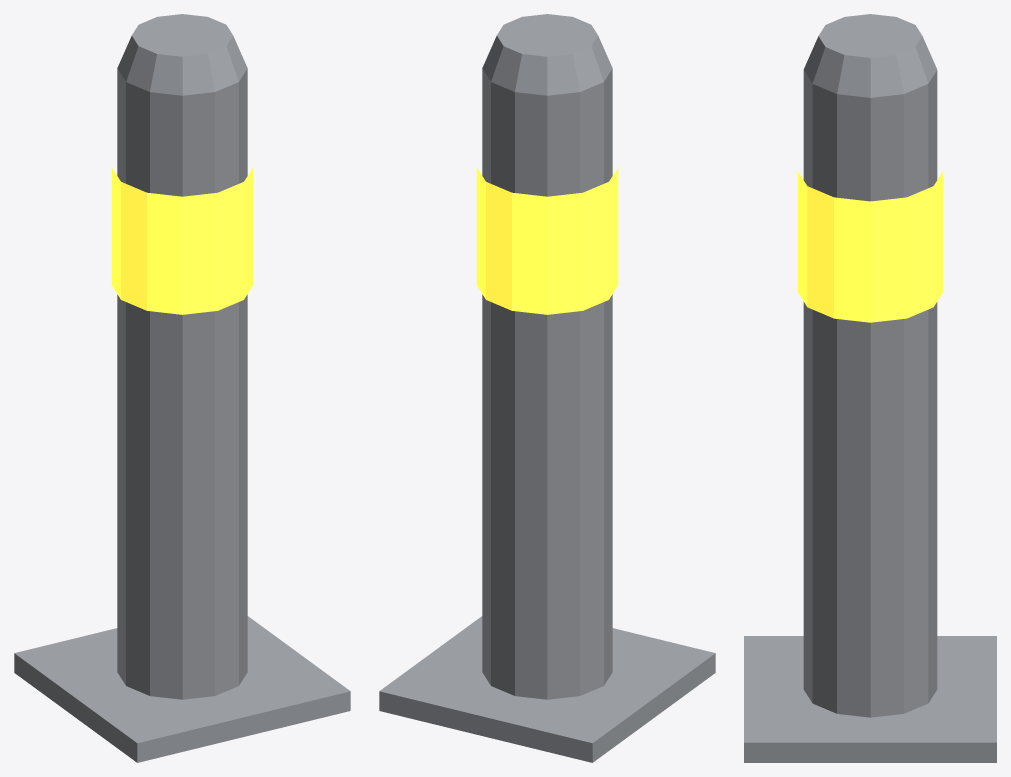
The model's file is street-bollard.glb.
3 renders of one model, left to right at view 1: azimuth 30°, elevation 25°; view 2: azimuth 150°, elevation 25°; view 3: azimuth 270°, elevation 25°, orthographic. The views are drawn at different scales.
Visible parts, largest first — view 1: bollard; view 2: bollard; view 3: bollard.
Boxes of the visible parts, <box> form: bollard: <box>14,14,350,762</box>; bollard: <box>379,14,715,762</box>; bollard: <box>744,14,996,762</box>.
Size of the model in its own units: 0.34 by 1 by 0.34.
